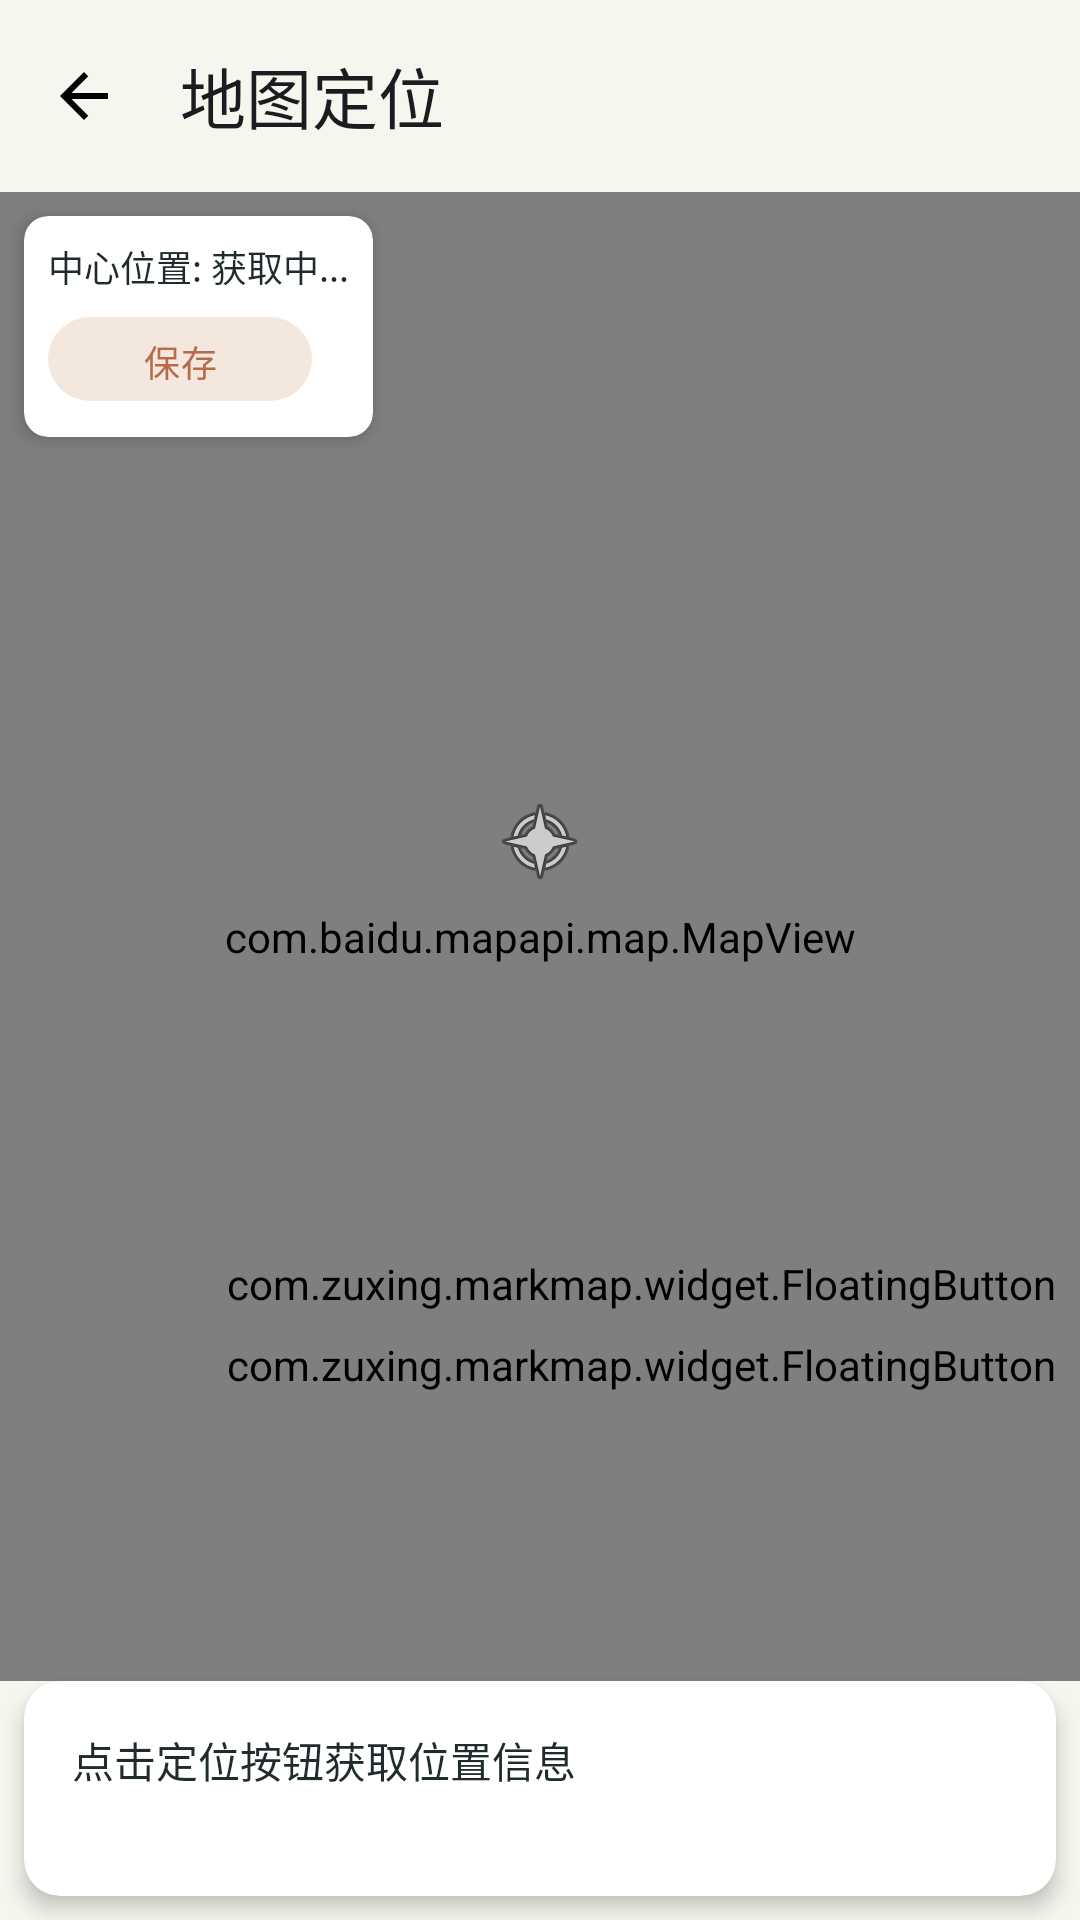

Screen size 1080 x 1920. Icon name, then its center in pixels as (x=x, y=y):
中心标记: (x=539, y=841)
